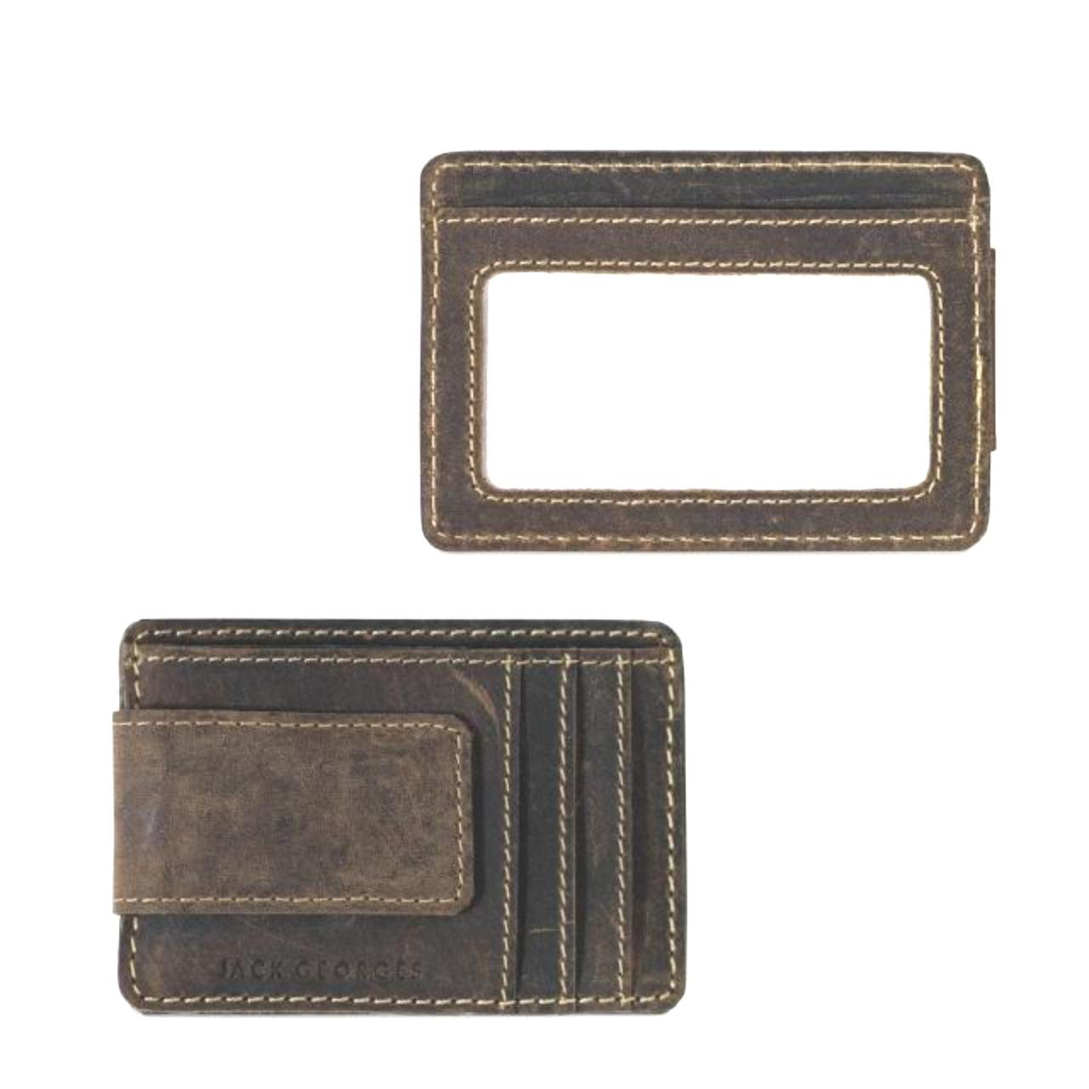wallet: (406, 136, 1010, 573), (86, 609, 705, 1033)
